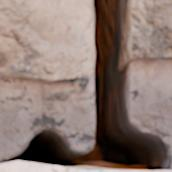brick: (0, 162, 85, 171)
broken_brick: (0, 0, 93, 84), (127, 0, 171, 63)
crack: (0, 0, 170, 171)
